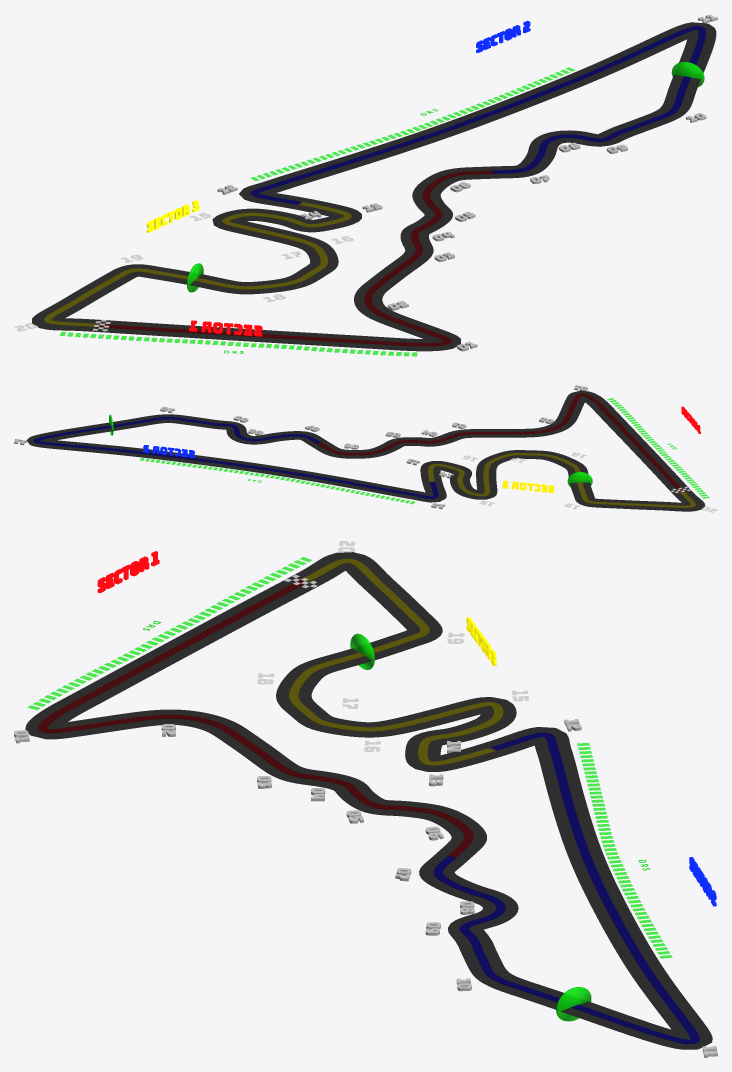
File: americas.gltf
3 renders of one model, top to bottom at view 1: azimuth 30°, elevation 25°; view 2: azimuth 150°, elevation 25°; view 3: azimuth 270°, elevation 25°, orthographic. The views are drawn at different scales.
Visible parts, largest first — view 1: track plane, track plane.003, track plane.002, track plane.001, DRSPlane1.002, DRSPlane1.003, Text, Text.001, Text.002; view 2: track plane, track plane.003, track plane.002, track plane.001, DRSPlane1.002, DRSPlane1.003, Text.002, Text.001, DrsDetect1.002; view 3: track plane, track plane.003, track plane.002, track plane.001, DRSPlane1.002, DRSPlane1.003, Text.
Part boxes in pixels (<box>): track plane: <box>32,22,716,351</box>; track plane.003: <box>251,26,705,204</box>; track plane.002: <box>95,170,494,346</box>; track plane.001: <box>44,202,351,327</box>; DRSPlane1.002: <box>250,67,575,180</box>; DRSPlane1.003: <box>59,332,417,356</box>; Text: <box>189,320,262,336</box>; Text.001: <box>476,20,530,52</box>; Text.002: <box>146,200,199,232</box>; track plane: <box>26,390,705,511</box>; track plane.003: <box>33,417,438,498</box>; track plane.002: <box>317,393,683,491</box>; track plane.001: <box>428,453,695,507</box>; DRSPlane1.002: <box>140,458,415,504</box>; DRSPlane1.003: <box>607,398,709,498</box>; Text.002: <box>502,480,554,493</box>; Text.001: <box>143,445,194,458</box>; DrsDetect1.002: <box>567,472,592,487</box>; track plane: <box>25,552,712,1049</box>; track plane.003: <box>433,732,699,1044</box>; track plane.002: <box>38,579,473,857</box>; track plane.001: <box>289,558,503,765</box>; DRSPlane1.002: <box>577,743,672,958</box>; DRSPlane1.003: <box>27,557,312,710</box>; Text: <box>97,551,159,593</box>.
Bounding box in the file's own units: 130 × 7.57 × 74.88.
